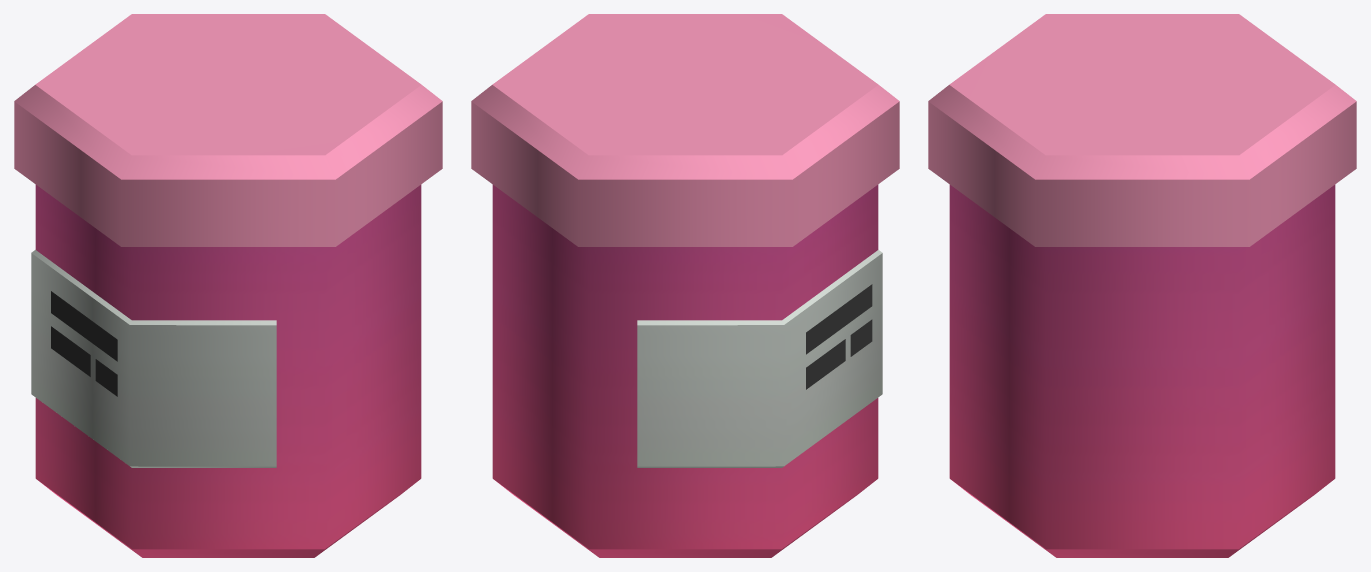
Rendered from Jar_1_J.fbx.
The picture shows the model from 3 angles, left to right: view 1: azimuth 30°, elevation 25°; view 2: azimuth 150°, elevation 25°; view 3: azimuth 270°, elevation 25°; orthographic projection.
Parts seen in each view (by area): view 1: Jar_1_J; view 2: Jar_1_J; view 3: Jar_1_J.
Boxes of the visible parts, x1,y1,x2,y2 form: Jar_1_J: (14,14,442,557); Jar_1_J: (471,14,899,557); Jar_1_J: (928,14,1356,557).
Size of the model in its own units: 17.99 by 21.94 by 20.77.
